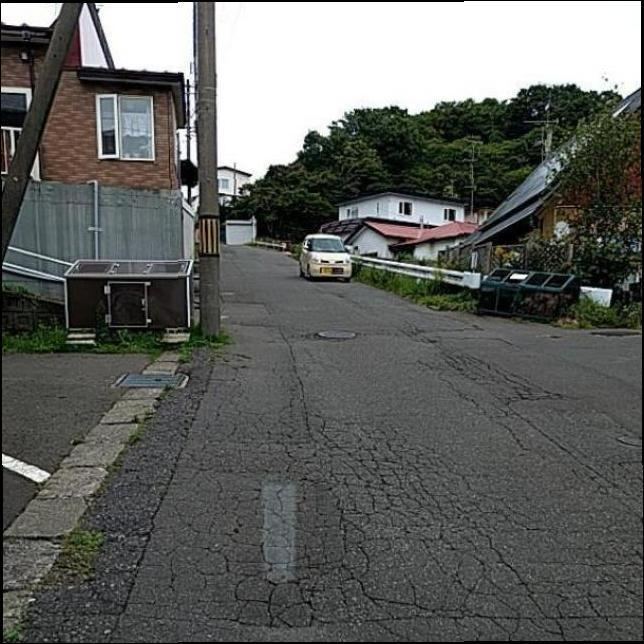Retak Buaya: (223, 422, 644, 644)
